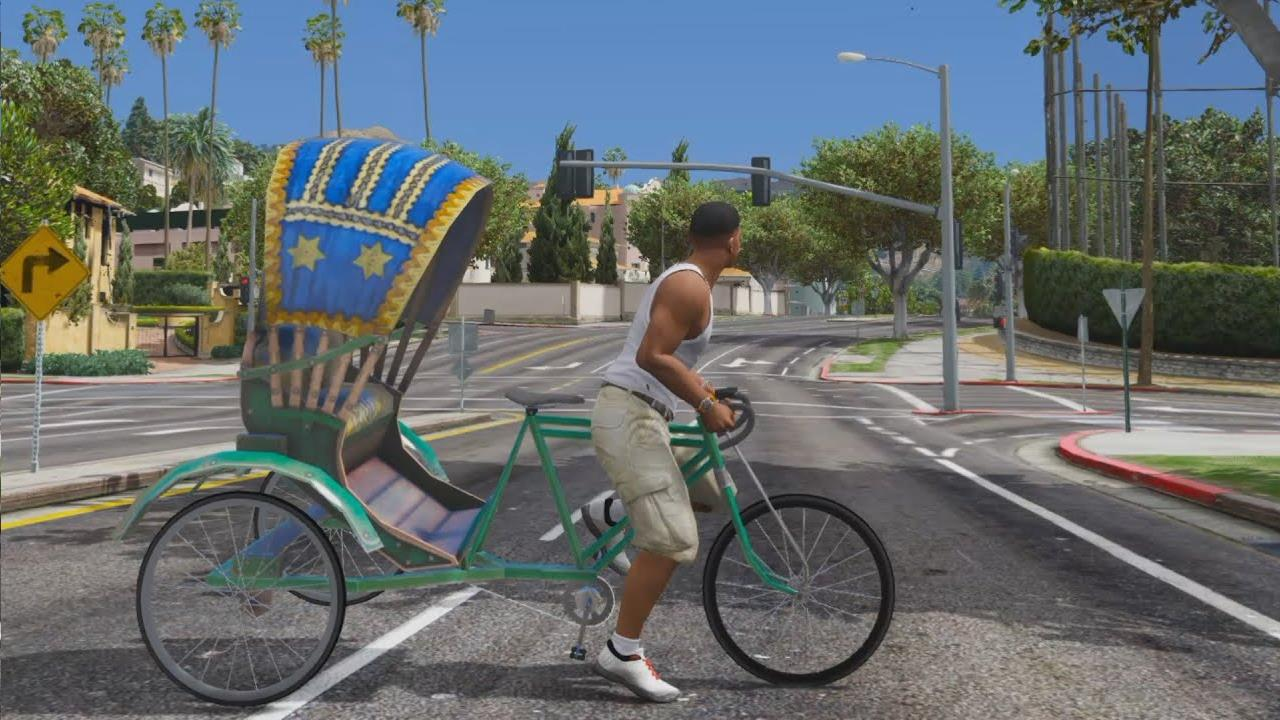Rickshaw: (144, 121, 896, 698)
